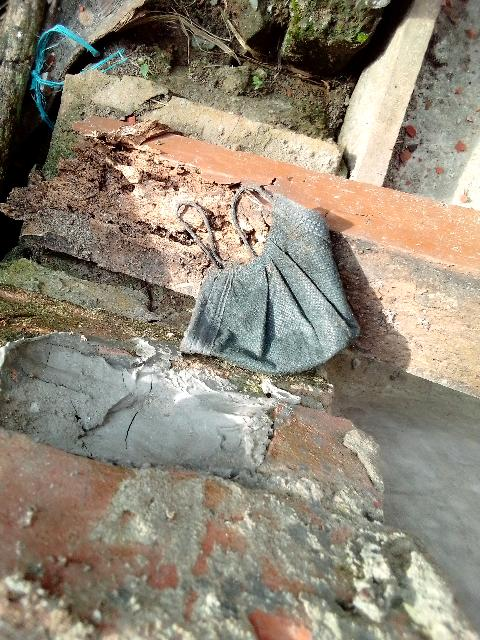mask: (202, 193, 357, 373)
